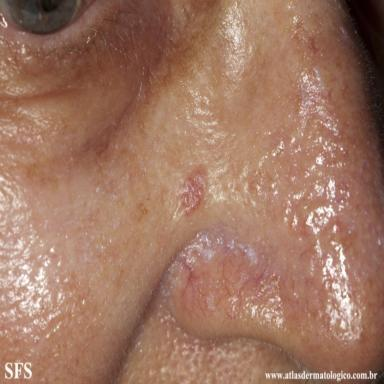basal-cell-carcinoma: (179, 167, 207, 217)
